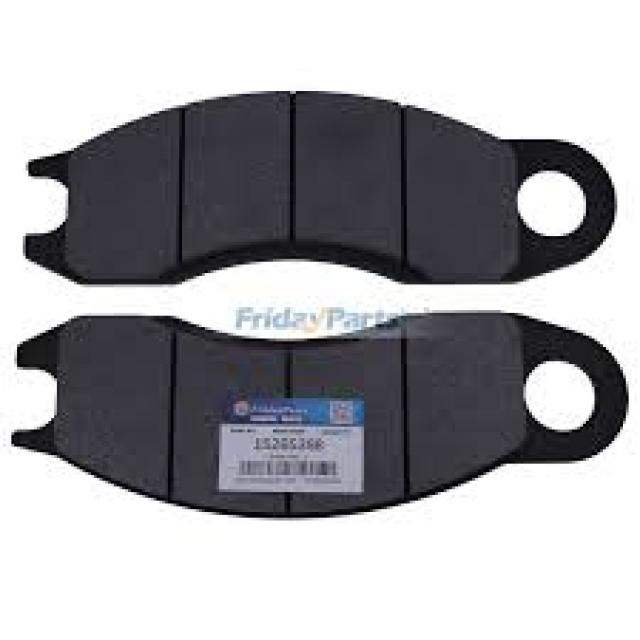brake_pad: (0, 301, 631, 520), (10, 91, 613, 292)
